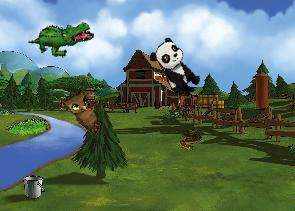crocodile: (27, 6, 96, 69)
owl: (58, 84, 112, 135)
panda: (145, 35, 207, 101)
